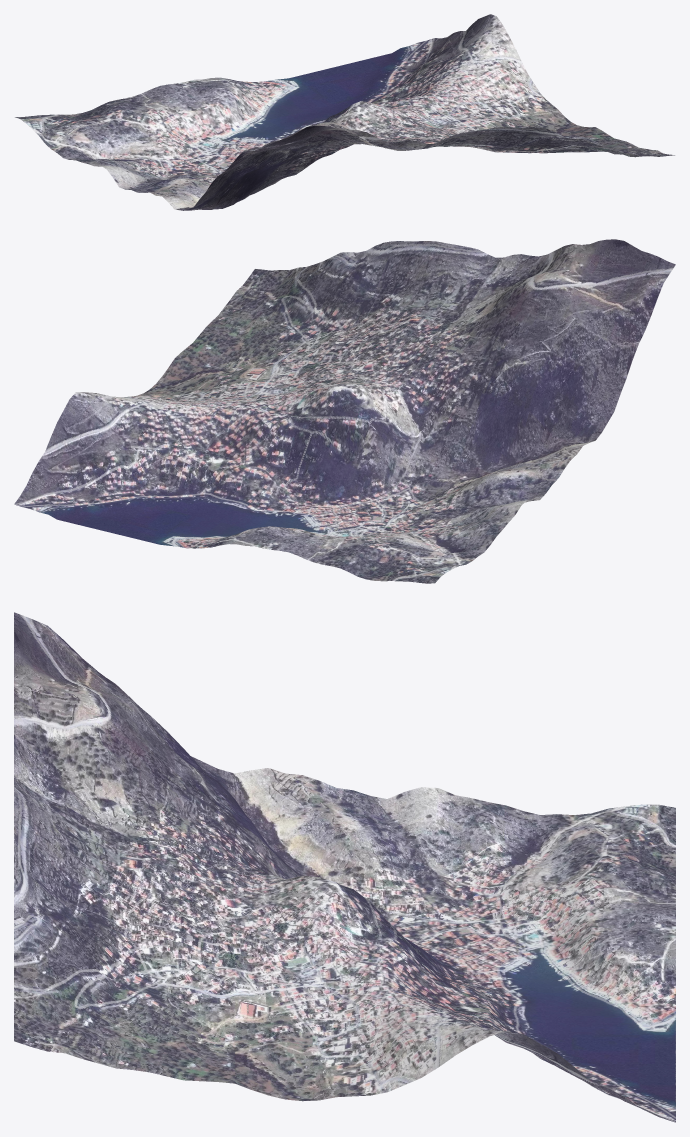
File: C1410_Satellite.glb
3 renders of one model, top to bottom at view 1: azimuth 30°, elevation 25°; view 2: azimuth 150°, elevation 25°; view 3: azimuth 270°, elevation 25°, orthographic. The views are drawn at different scales.
Parts seen in each view (by area): view 1: TerrainNode; view 2: TerrainNode; view 3: TerrainNode.
Part boxes in pixels (x1,y1,x2,y2): TerrainNode: [15, 14, 674, 210]; TerrainNode: [14, 239, 675, 583]; TerrainNode: [14, 612, 675, 1122].
Bounding box in the file's own units: 1515 × 626 × 1502.
1 material, 1 textured.
